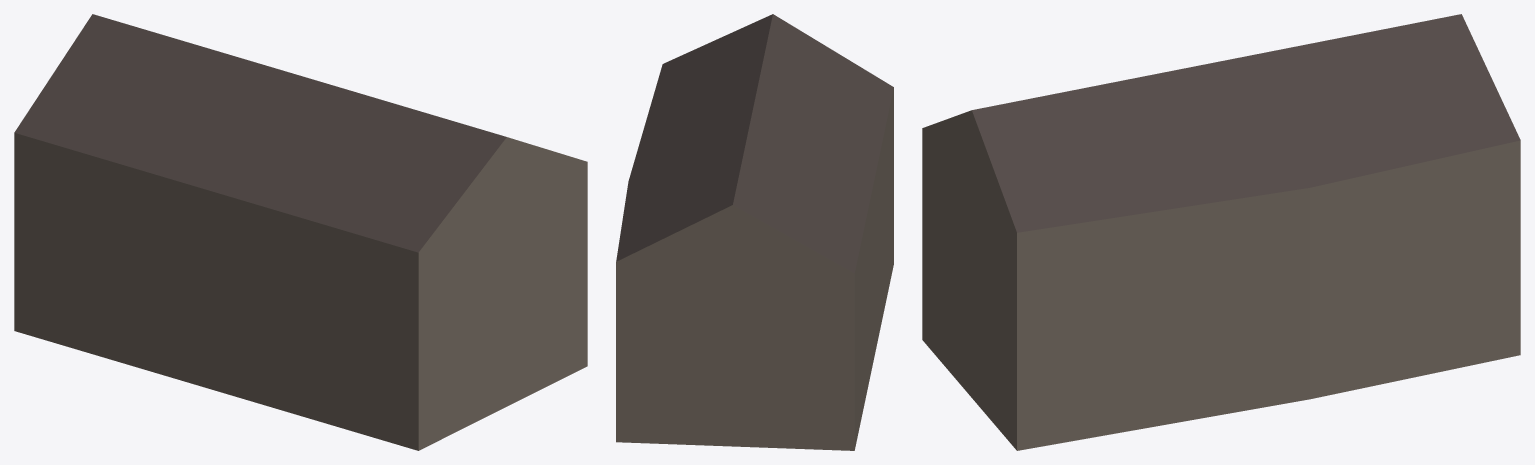
3 renders of one model, left to right at view 1: azimuth 30°, elevation 25°; view 2: azimuth 150°, elevation 25°; view 3: azimuth 270°, elevation 25°, orthographic. The views are drawn at different scales.
Visible parts, largest first — view 1: HP-w783664810; view 2: HP-w783664810; view 3: HP-w783664810.
Part boxes in pixels (bbox=[...]): HP-w783664810: bbox=[14, 14, 587, 450]; HP-w783664810: bbox=[616, 14, 893, 450]; HP-w783664810: bbox=[922, 14, 1520, 450].
Size of the model in its own units: 12.47 by 8.16 by 15.39.
